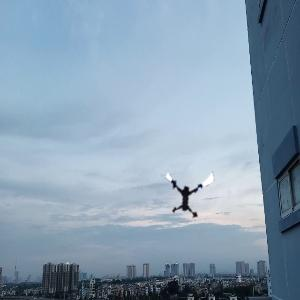drone: (159, 165, 215, 221)
